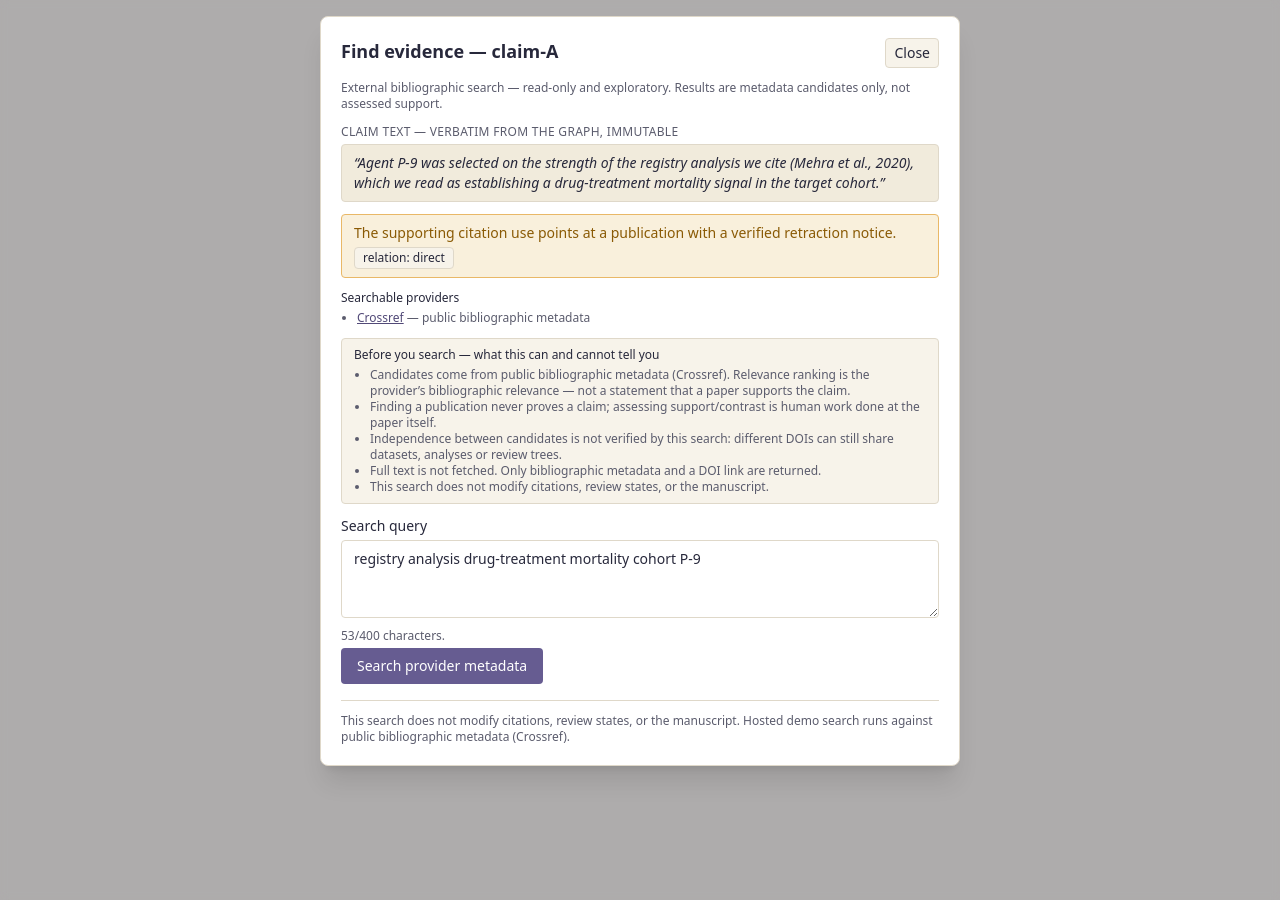
FindEvidencePanel — staged honest flow › provider timeout inside a 200 search reads as missing results (not an error) and names the retried attempt
The width and height of the screenshot is (1280, 900).
Click the button with test id "find-evidence-search": point(442, 666) [341,648,543,684]
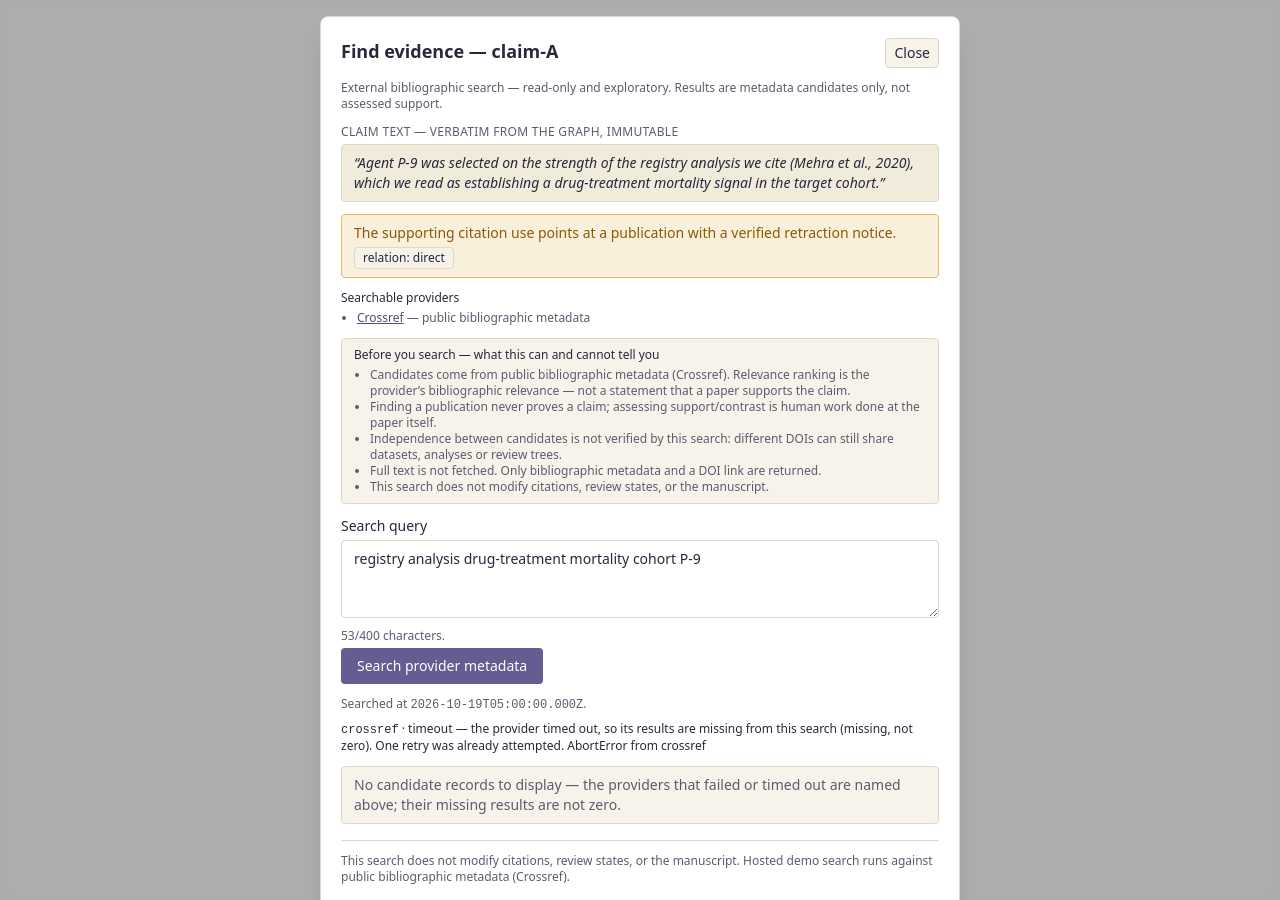
Now the element with test id "find-evidence-provider-crossref" shows "timeout", box [408,720,452,737]
Now the element with test id "find-evidence-provider-crossref" shows "timed out", box [341,720,913,754]
Now the element with test id "find-evidence-provider-crossref" shows "missing", box [341,720,913,754]
